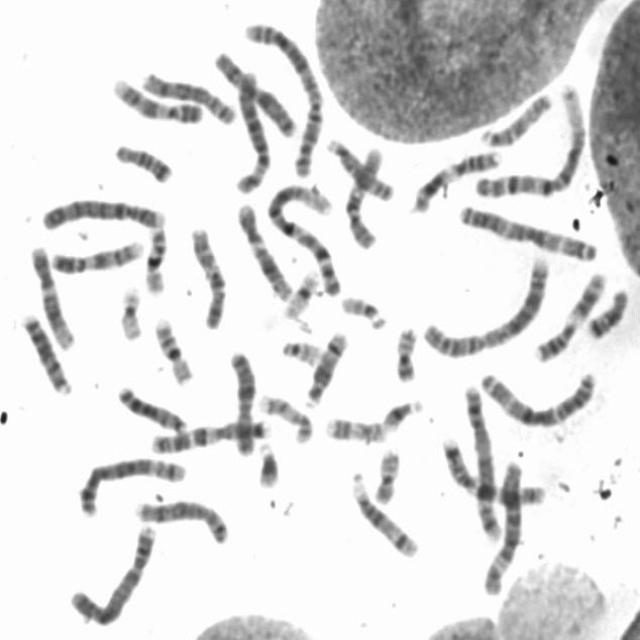A1: (470, 76, 590, 201), (260, 176, 344, 299)
A2: (415, 250, 550, 360), (240, 12, 328, 180)
A3: (451, 195, 600, 263), (474, 363, 598, 429)
B4: (66, 518, 160, 628), (36, 191, 168, 231)
B5: (74, 449, 190, 518), (456, 378, 504, 542)
C10: (341, 142, 387, 250), (185, 221, 230, 331)
C11: (529, 266, 609, 365), (406, 144, 503, 214)
C12: (230, 198, 293, 302), (24, 238, 76, 351)
C6: (478, 454, 527, 597), (231, 68, 274, 196)
C7: (435, 432, 549, 509), (146, 413, 272, 456)
C8: (136, 65, 240, 126), (131, 492, 232, 547)
C9: (107, 70, 205, 126), (46, 232, 146, 276)
D13: (16, 308, 74, 398), (112, 378, 190, 434)
D14: (346, 467, 421, 560), (300, 323, 350, 409)
D15: (320, 133, 396, 203), (477, 86, 556, 150)
E16: (149, 311, 196, 386), (140, 220, 171, 296)
E17: (255, 387, 316, 445), (321, 410, 390, 446)
E18: (109, 136, 176, 185), (582, 282, 631, 341)
F19: (279, 263, 322, 320), (114, 280, 145, 342)
F20: (368, 442, 402, 506), (391, 318, 421, 384)
G21: (378, 393, 426, 432), (252, 434, 282, 490)
G22: (336, 290, 390, 331), (277, 332, 325, 368)
X: (208, 45, 300, 140), (224, 345, 259, 458)
